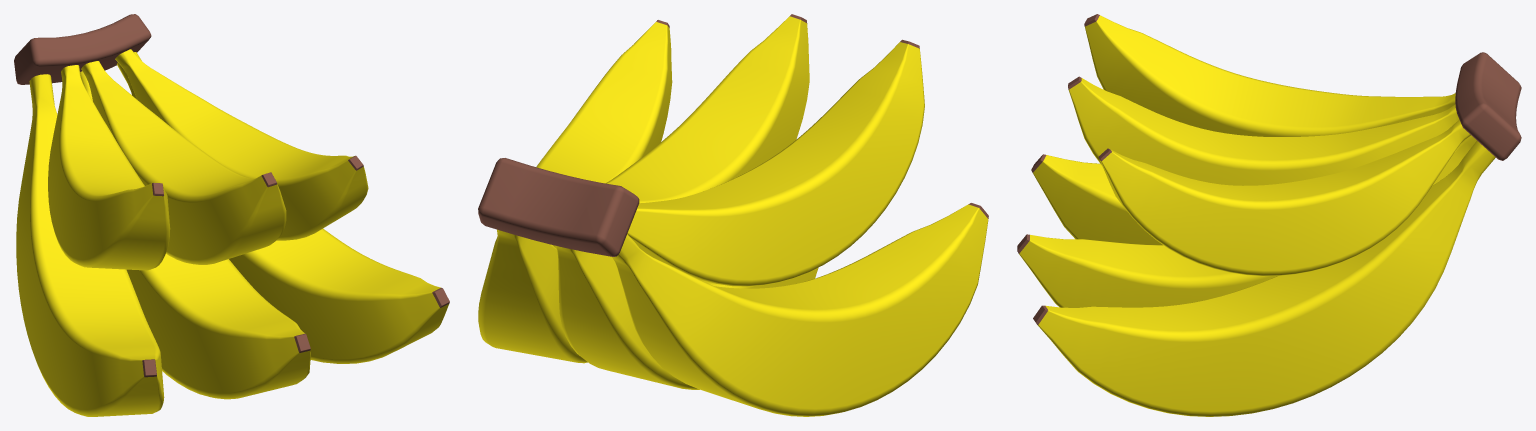
Rendered from Farm_17_Bunch_of_Bananas_2.glb.
3 views of the same model, side by side, from view 1: azimuth 30°, elevation 25°; view 2: azimuth 150°, elevation 25°; view 3: azimuth 270°, elevation 25° (orthographic). The views are drawn at different scales.
Parts seen in each view (by area): view 1: Farm_17_Bunch_of_Bananas_2; view 2: Farm_17_Bunch_of_Bananas_2; view 3: Farm_17_Bunch_of_Bananas_2.
Boxes of the visible parts, x1,y1,x2,y2 form: Farm_17_Bunch_of_Bananas_2: (14, 14, 449, 416); Farm_17_Bunch_of_Bananas_2: (478, 14, 988, 416); Farm_17_Bunch_of_Bananas_2: (1017, 14, 1521, 416).
Bounding box in the file's own units: 0.4398 × 0.3302 × 0.5509.
Materials: 1 (1 with a texture image).
